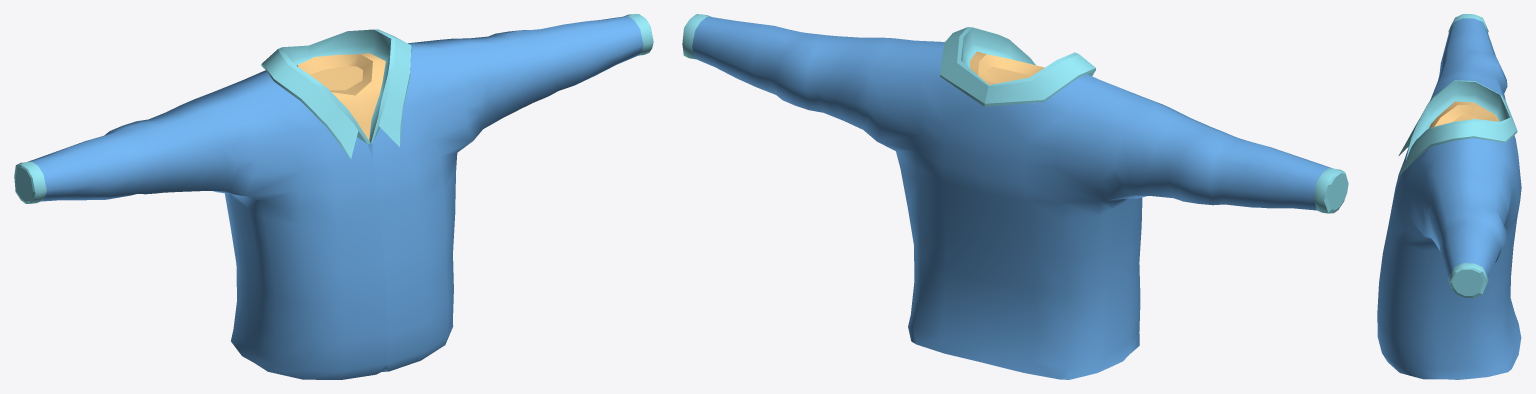
Rendered from Torso_11_02.fbx.
3 views of the same model, side by side, from view 1: azimuth 30°, elevation 25°; view 2: azimuth 150°, elevation 25°; view 3: azimuth 270°, elevation 25° (orthographic). The views are drawn at different scales.
Parts seen in each view (by area): view 1: Torso_11_02; view 2: Torso_11_02; view 3: Torso_11_02.
Boxes of the visible parts, <box> form: Torso_11_02: <box>14,14,653,379</box>; Torso_11_02: <box>682,14,1348,379</box>; Torso_11_02: <box>1377,14,1521,379</box>.
Bounding box in the file's own units: 118 × 53.29 × 28.2.
